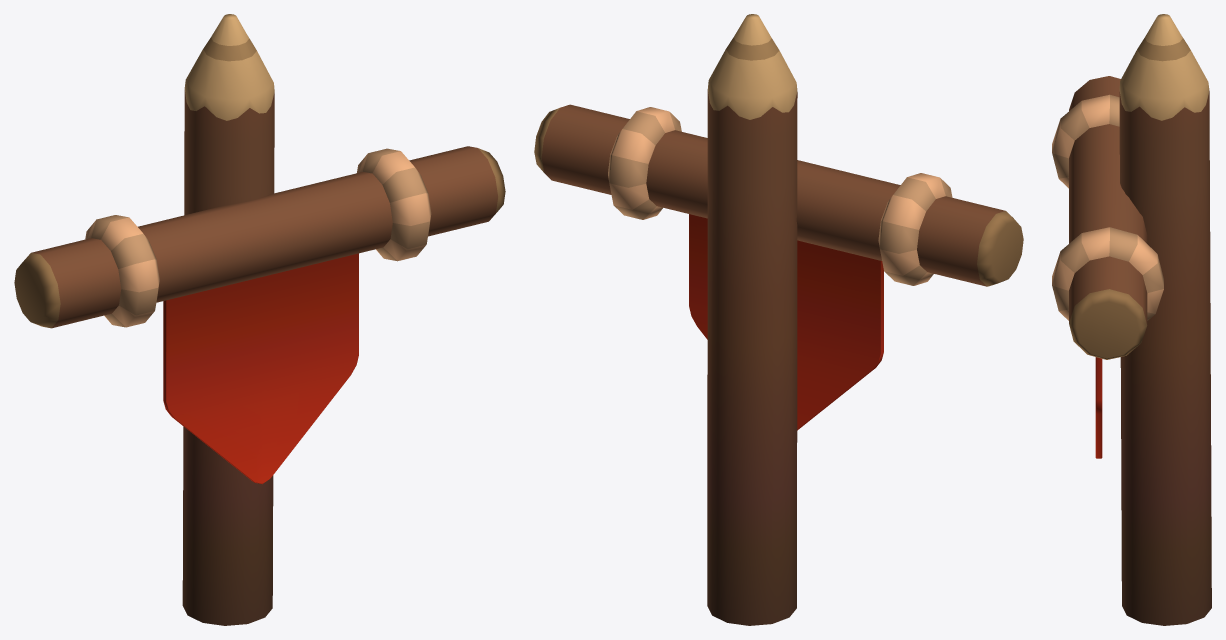
File: Direction_1.fbx
The picture shows the model from 3 angles, left to right: view 1: azimuth 30°, elevation 25°; view 2: azimuth 150°, elevation 25°; view 3: azimuth 270°, elevation 25°; orthographic projection.
Parts seen in each view (by area): view 1: Direction_1; view 2: Direction_1; view 3: Direction_1.
Boxes of the visible parts, x1,y1,x2,y2 form: Direction_1: (14, 14, 505, 625); Direction_1: (534, 14, 1023, 625); Direction_1: (1052, 14, 1211, 625).
Bounding box in the file's own units: 136 × 167 × 41.06.
